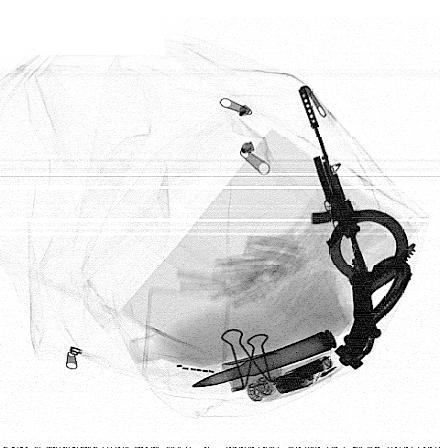Bullet: (194, 328, 337, 389)
Gun: (298, 83, 374, 290)
HandCuffs: (328, 208, 417, 324)
